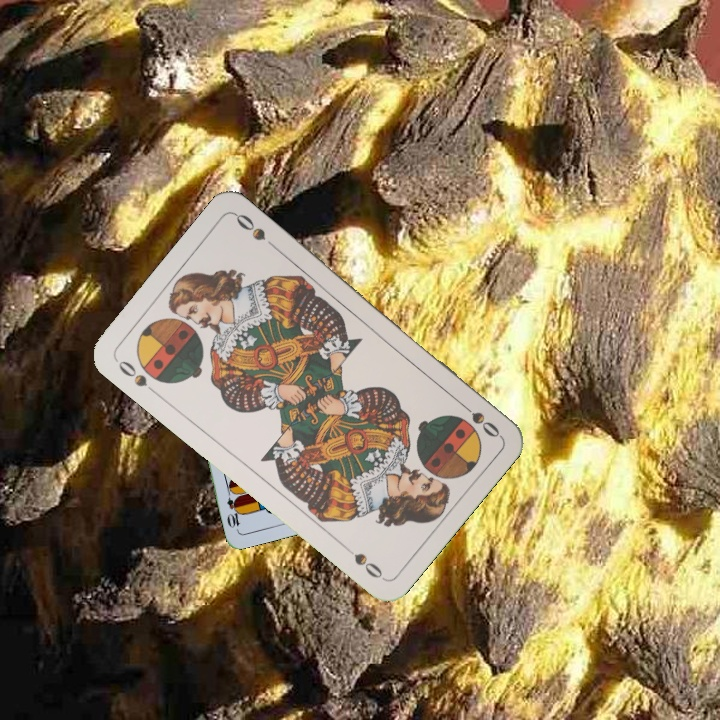SO: (453, 396, 503, 441), (112, 356, 161, 398)
